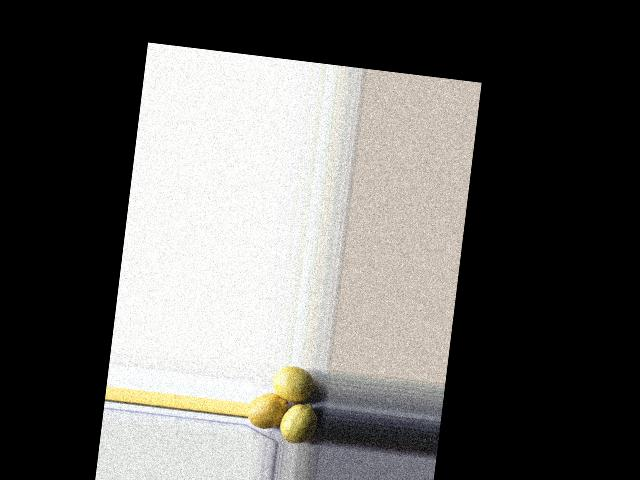lemon: (271, 363, 319, 401)
